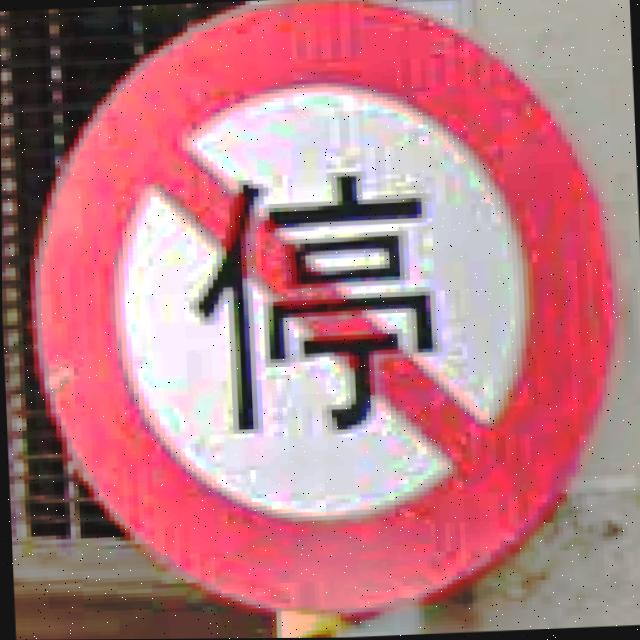nopark: (13, 0, 639, 630)
